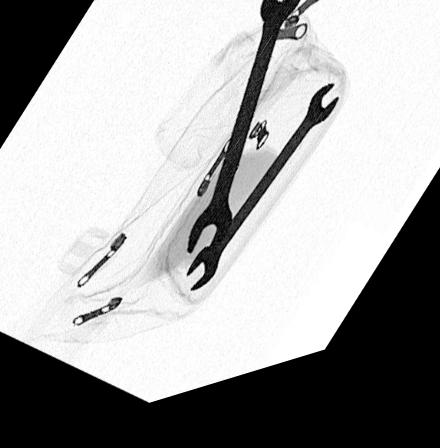Wrench: (185, 0, 305, 265), (184, 102, 338, 303)
